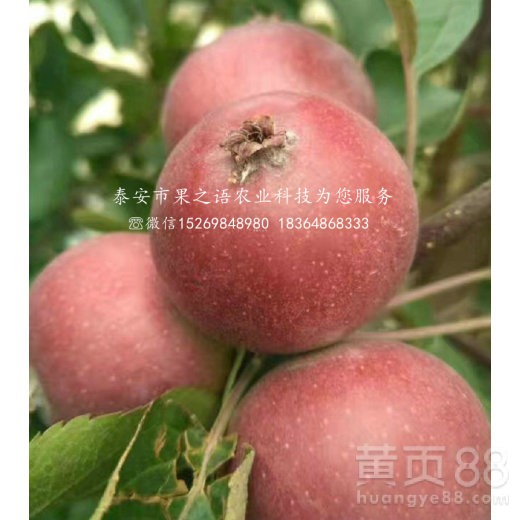apple: (151, 92, 420, 348), (231, 340, 493, 520)
obscured(1)_apple: (32, 232, 241, 429)
